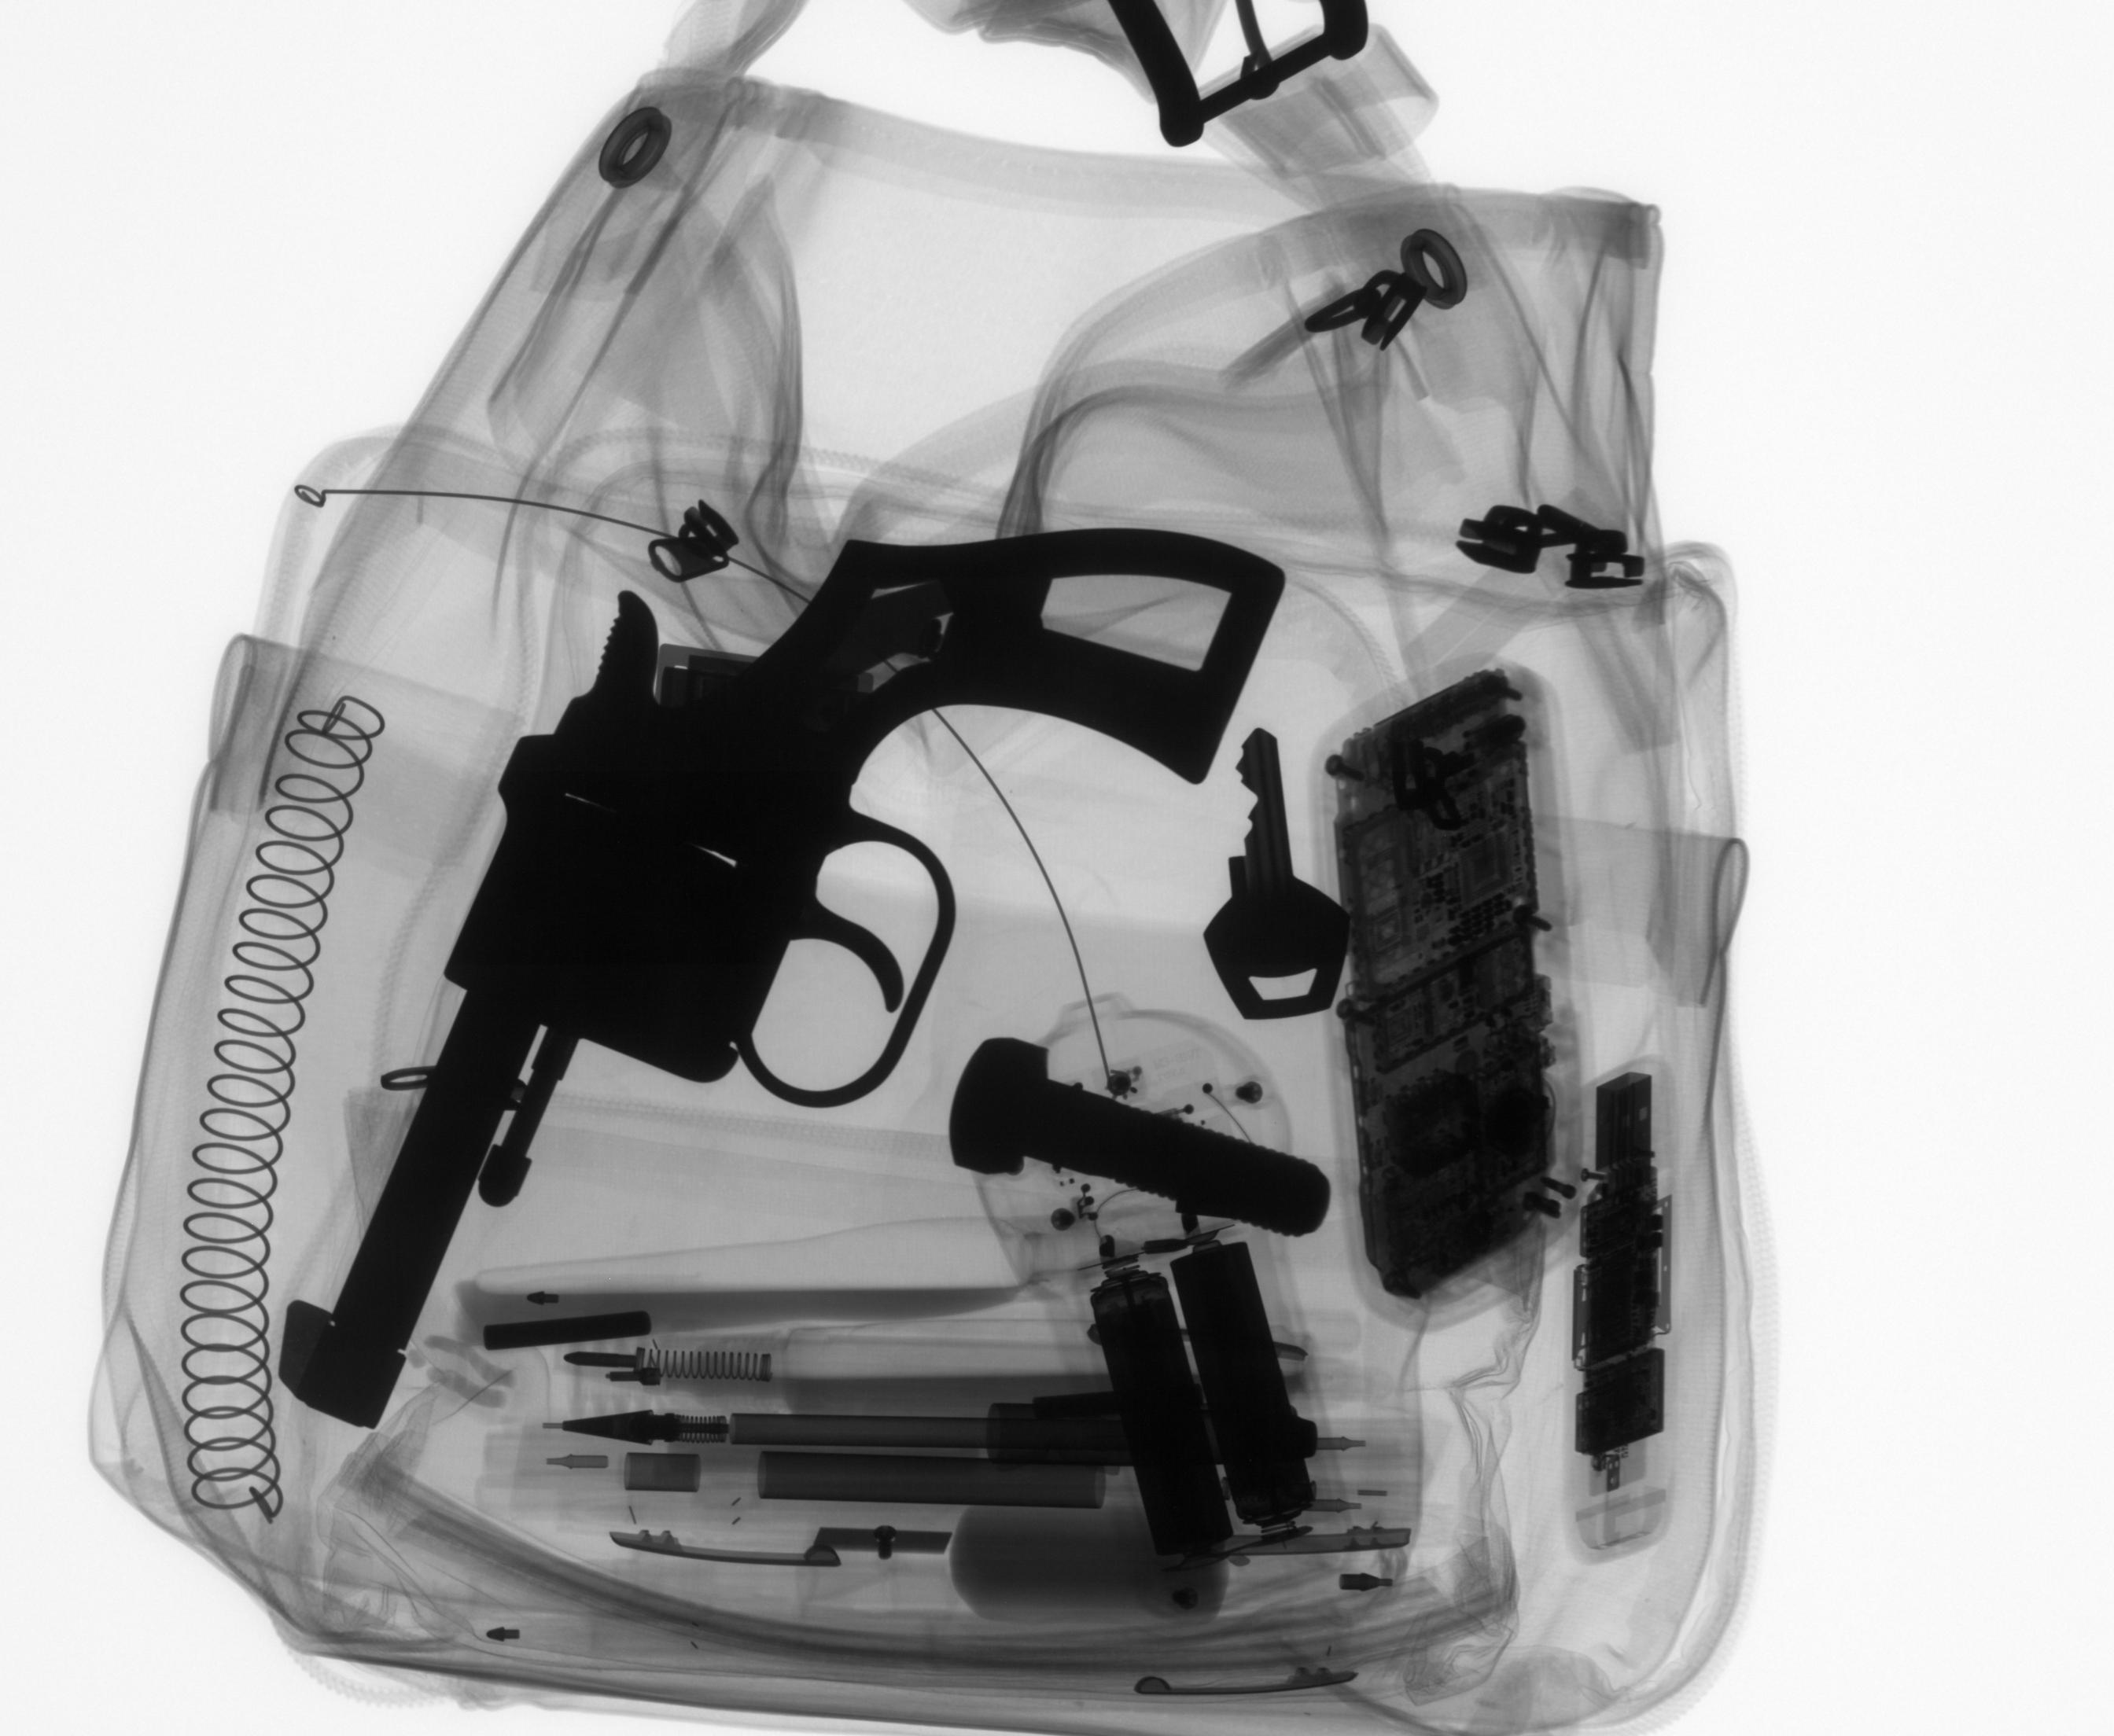Handgun: (263, 524, 1294, 1436)
